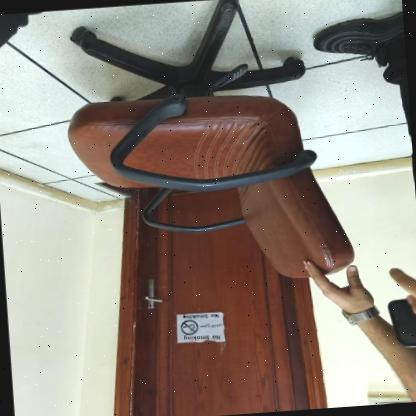chair: (57, 0, 361, 301)
